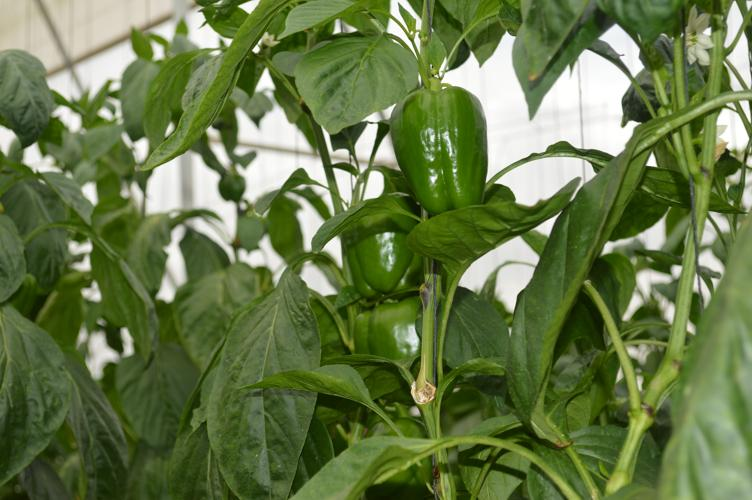BellPepper: (394, 83, 486, 213), (329, 197, 416, 290), (355, 299, 419, 370)
